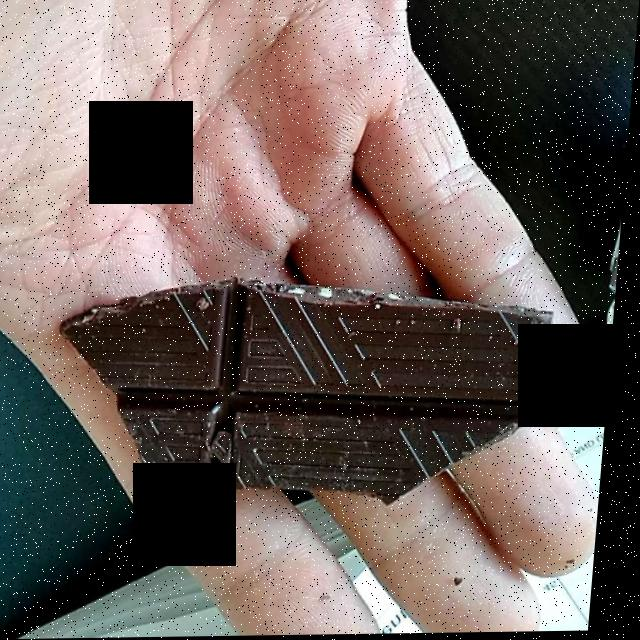dark-chocolate: (70, 282, 550, 501)
